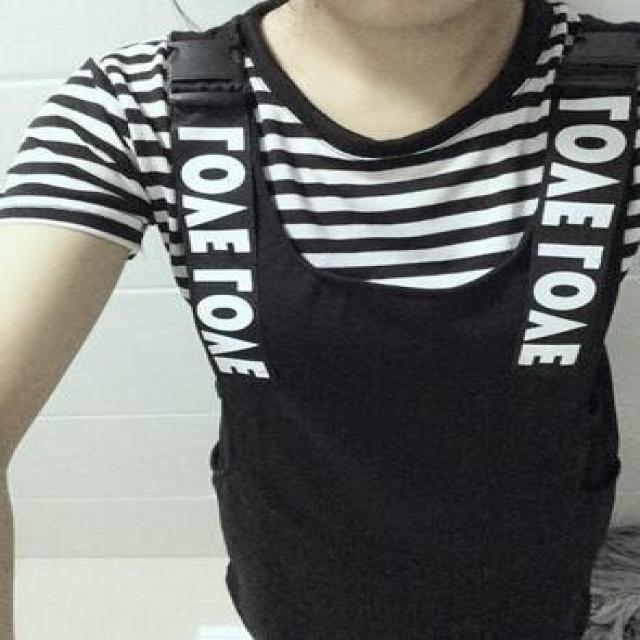short-sleeve-dress: (60, 34, 640, 624)
